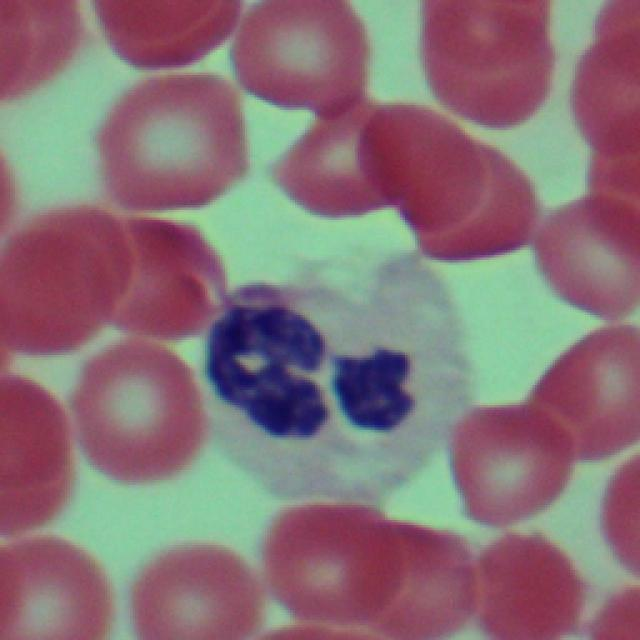RBC: (383, 110, 535, 267), (96, 67, 246, 224), (3, 201, 144, 362), (66, 334, 201, 494), (91, 215, 222, 354), (405, 0, 552, 122), (441, 394, 571, 528), (274, 90, 400, 222), (526, 318, 638, 461), (225, 2, 368, 113), (122, 522, 254, 639), (453, 522, 577, 638), (529, 191, 637, 318), (0, 356, 72, 528), (1, 528, 111, 638), (87, 0, 240, 73), (565, 1, 640, 142), (0, 0, 82, 109), (597, 440, 640, 577)
WBC: (195, 258, 481, 508)
